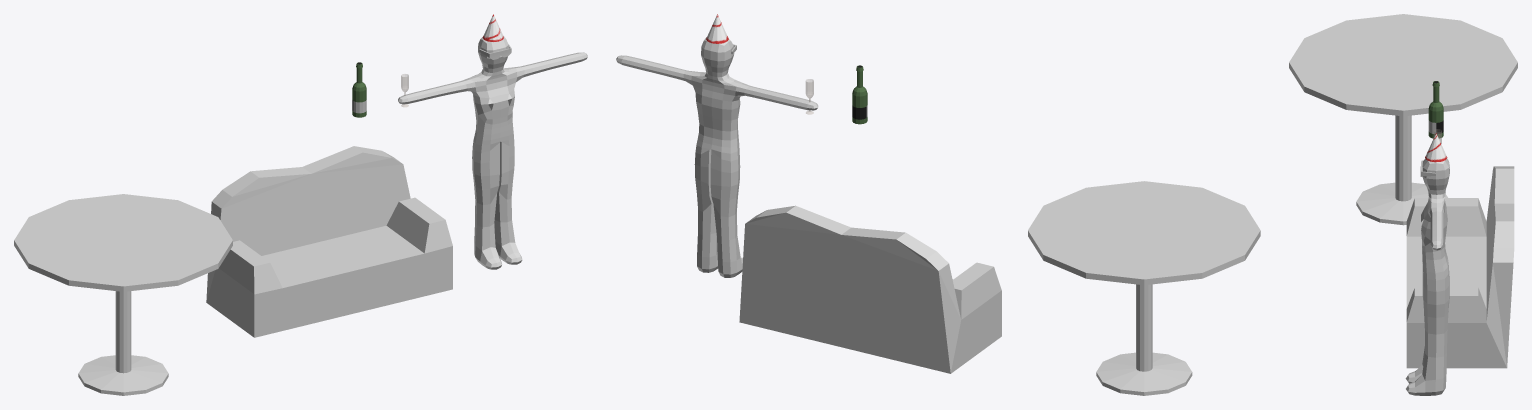
The model's file is modelpack 1.fbx.
3 views of the same model, side by side, from view 1: azimuth 30°, elevation 25°; view 2: azimuth 150°, elevation 25°; view 3: azimuth 270°, elevation 25° (orthographic). The views are drawn at different scales.
Visible parts, largest first — view 1: p_couch, p_tabel, BaseModel, 12_1; view 2: p_couch, p_tabel, BaseModel, 12_1; view 3: p_tabel, p_couch, BaseModel, 12_1, p_celebratoryHat.
Part boxes in pixels (x1,y1,x2,y2): p_couch: [206, 146, 452, 337]; p_tabel: [14, 194, 232, 395]; BaseModel: [398, 35, 587, 269]; 12_1: [352, 62, 366, 117]; p_couch: [739, 205, 1001, 373]; p_tabel: [1028, 181, 1260, 395]; BaseModel: [616, 37, 818, 277]; 12_1: [852, 65, 867, 124]; p_tabel: [1289, 14, 1517, 225]; p_couch: [1406, 166, 1514, 368]; BaseModel: [1405, 158, 1449, 395]; 12_1: [1428, 81, 1443, 138]; p_celebratoryHat: [1425, 133, 1447, 162].
Size of the model in its own units: 6323 by 2740 by 2084.
5 materials, 1 textured.
